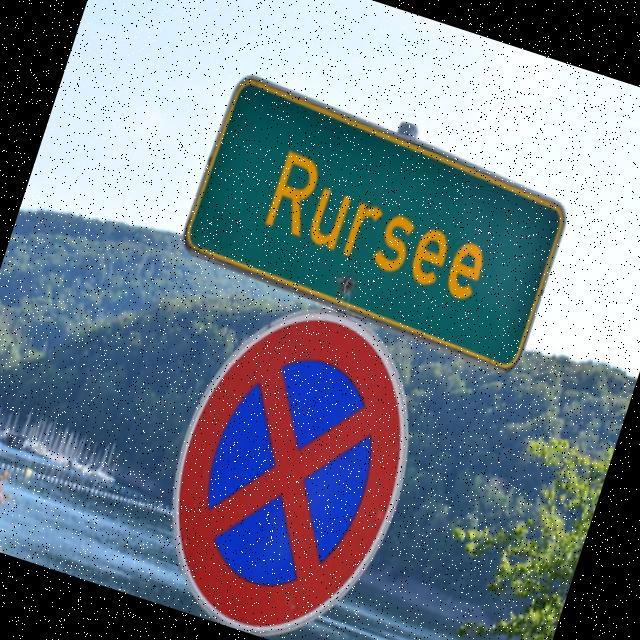no_parking: (133, 282, 446, 640)
